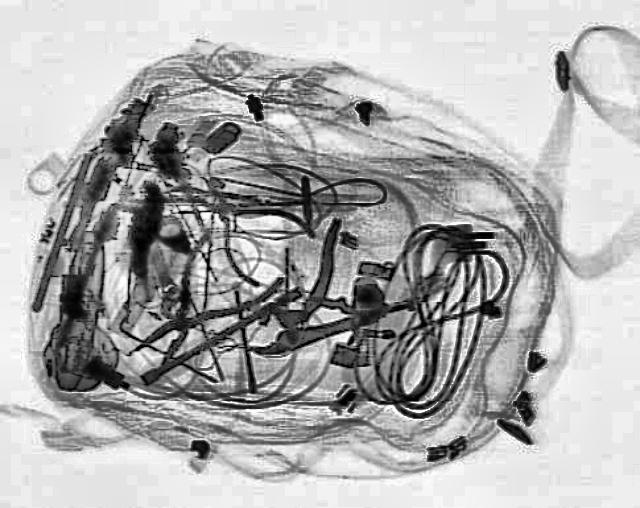Pliers: (209, 215, 439, 387), (94, 226, 292, 382), (154, 159, 328, 289)
